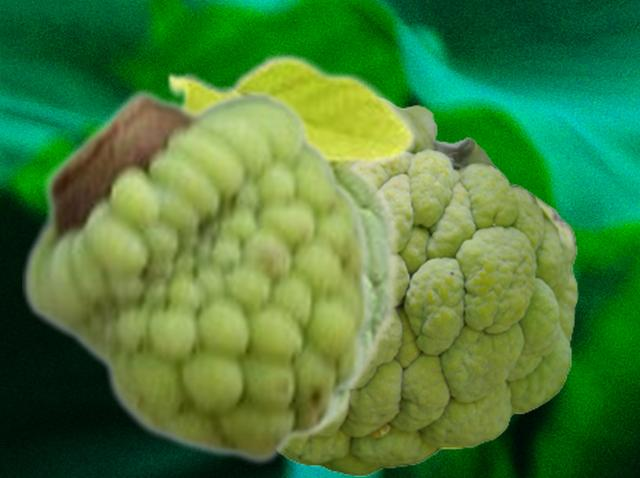atis: (22, 86, 374, 466), (280, 102, 577, 475), (162, 51, 418, 439)
